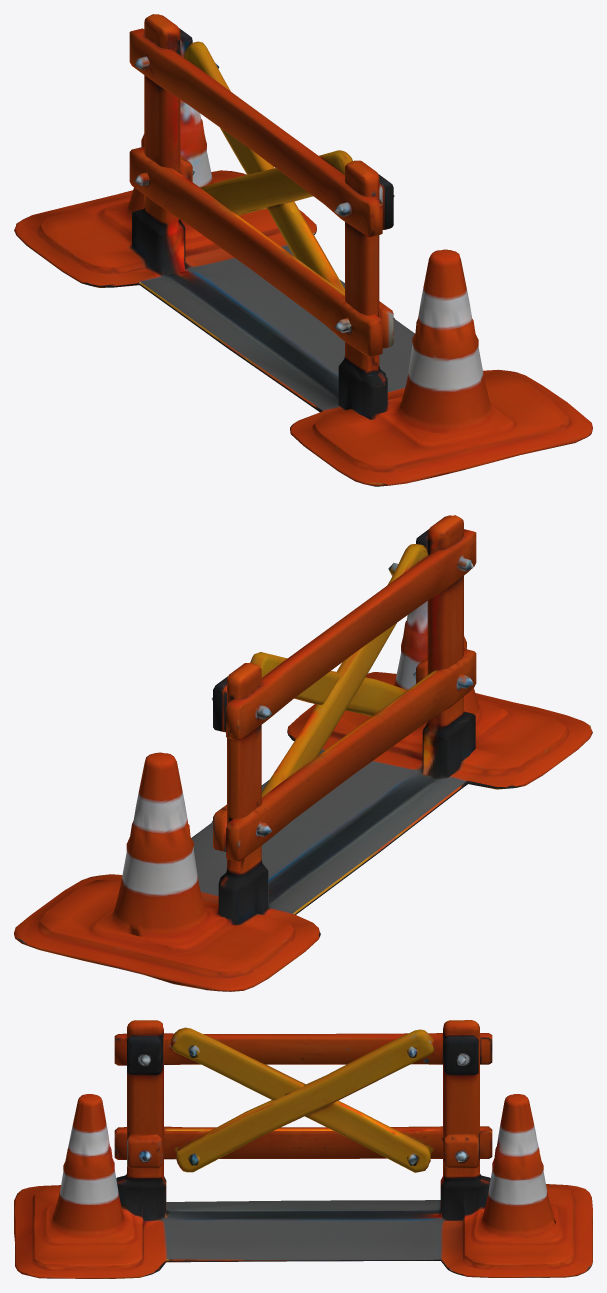
The model's file is obstacleBarrier.fbx.
The picture shows the model from 3 angles, top to bottom: view 1: azimuth 30°, elevation 25°; view 2: azimuth 150°, elevation 25°; view 3: azimuth 270°, elevation 25°; orthographic projection. The views are drawn at different scales.
Parts seen in each view (by area): view 1: tripo_node_046e8b01; view 2: tripo_node_046e8b01; view 3: tripo_node_046e8b01.
Part boxes in pixels (<box>): tripo_node_046e8b01: <box>14,14,592,486</box>; tripo_node_046e8b01: <box>14,515,592,991</box>; tripo_node_046e8b01: <box>14,1020,592,1278</box>.
Bounding box in the file's own units: 36.39 × 35.29 × 94.54.
Materials: 1 (1 with a texture image).
